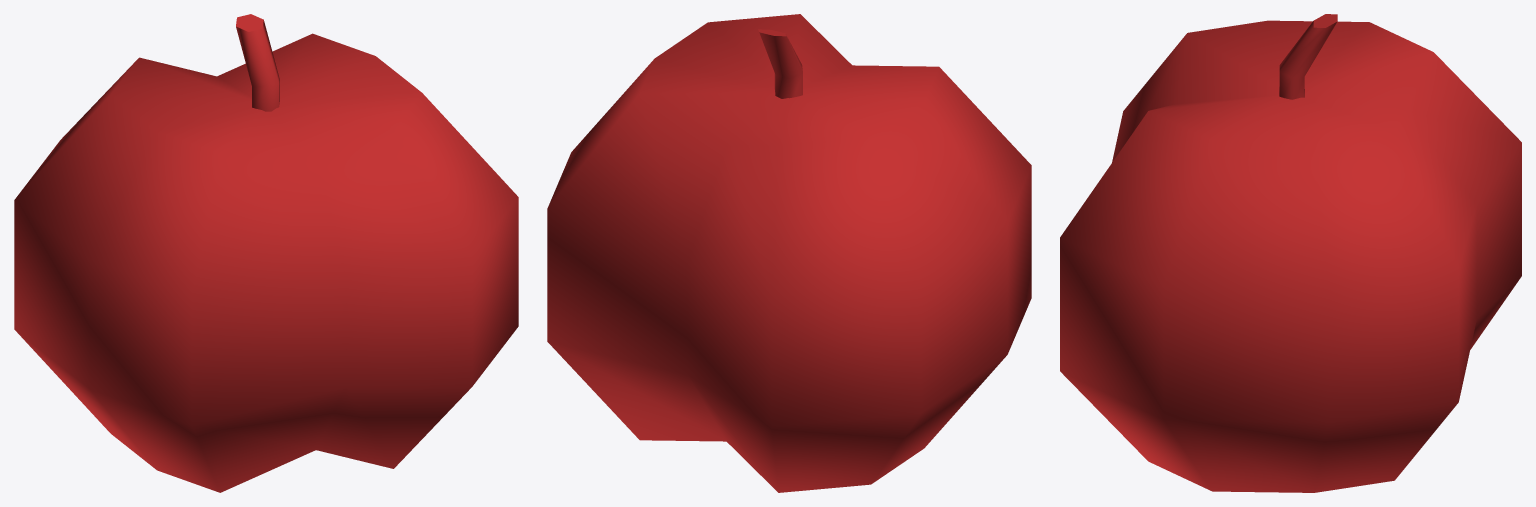
The model's file is manzana.glb.
The picture shows the model from 3 angles, left to right: view 1: azimuth 30°, elevation 25°; view 2: azimuth 150°, elevation 25°; view 3: azimuth 270°, elevation 25°; orthographic projection. The views are drawn at different scales.
Visible parts, largest first — view 1: Cylinder002; view 2: Cylinder002; view 3: Cylinder002.
Part boxes in pixels (x1=…): Cylinder002: x1=14, y1=14, x2=518, y2=492; Cylinder002: x1=547, y1=14, x2=1031, y2=492; Cylinder002: x1=1060, y1=14, x2=1521, y2=492.
Size of the model in its own units: 8.17 by 8.02 by 8.1.
